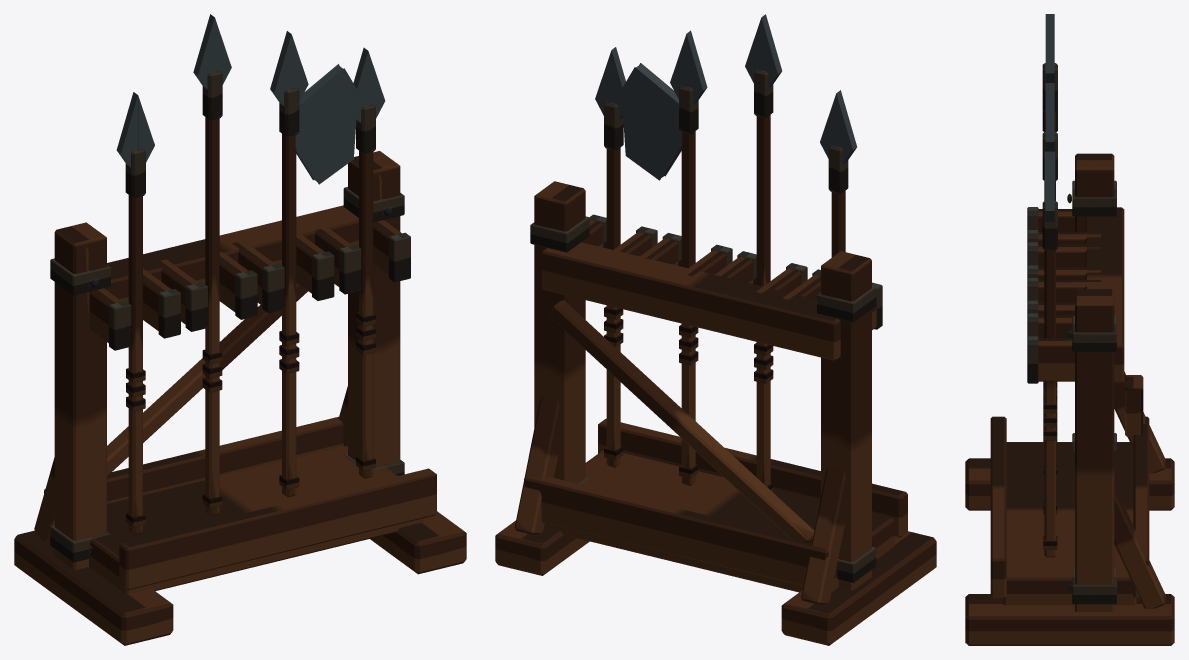
Rendered from WeaponRack_Polearms_Loaded.fbx.
3 renders of one model, left to right at view 1: azimuth 30°, elevation 25°; view 2: azimuth 150°, elevation 25°; view 3: azimuth 270°, elevation 25°, orthographic. The views are drawn at different scales.
Parts seen in each view (by area): view 1: WeaponRack_Polearms_Loaded; view 2: WeaponRack_Polearms_Loaded; view 3: WeaponRack_Polearms_Loaded.
Boxes of the visible parts, x1,y1,x2,y2 form: WeaponRack_Polearms_Loaded: (14,14,466,645); WeaponRack_Polearms_Loaded: (495,14,936,645); WeaponRack_Polearms_Loaded: (965,14,1174,645).
Size of the model in its own units: 1.53 by 2.4 by 0.85.
4 materials, 4 textured.
